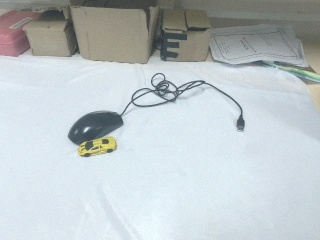box: (68, 1, 163, 65), (157, 7, 213, 64), (21, 6, 79, 59)
mouse: (67, 110, 124, 144)
toy_car: (77, 136, 118, 157)
